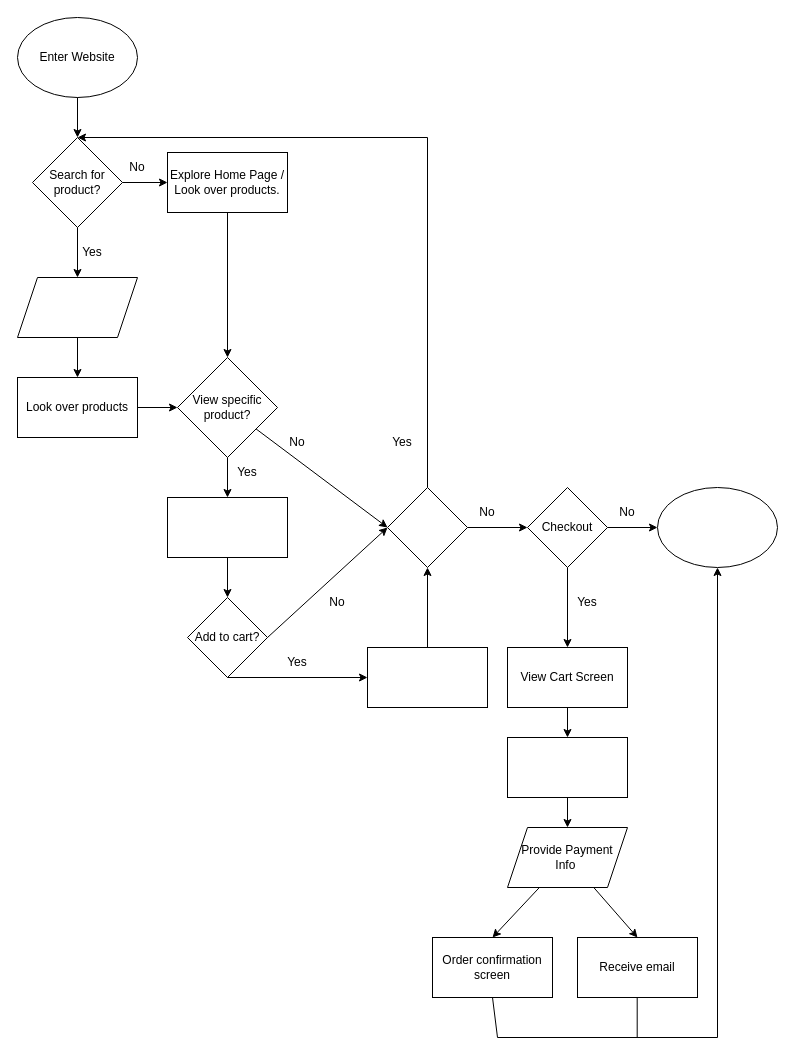
Image size: 795x1063. Some labels were removed from this diagram. The shapes that lost their labels are listed below. From the top down, each one's box as (x1, y1, x2, y2) in pixels, then its label:
(16, 276, 138, 338): Search Input
(166, 496, 288, 558): Open product webpage
(386, 486, 468, 568): Continue shopping?
(656, 486, 778, 568): Leave Website
(366, 646, 488, 708): Added to cart confirmtation
(506, 736, 628, 798): View Payment Screen
